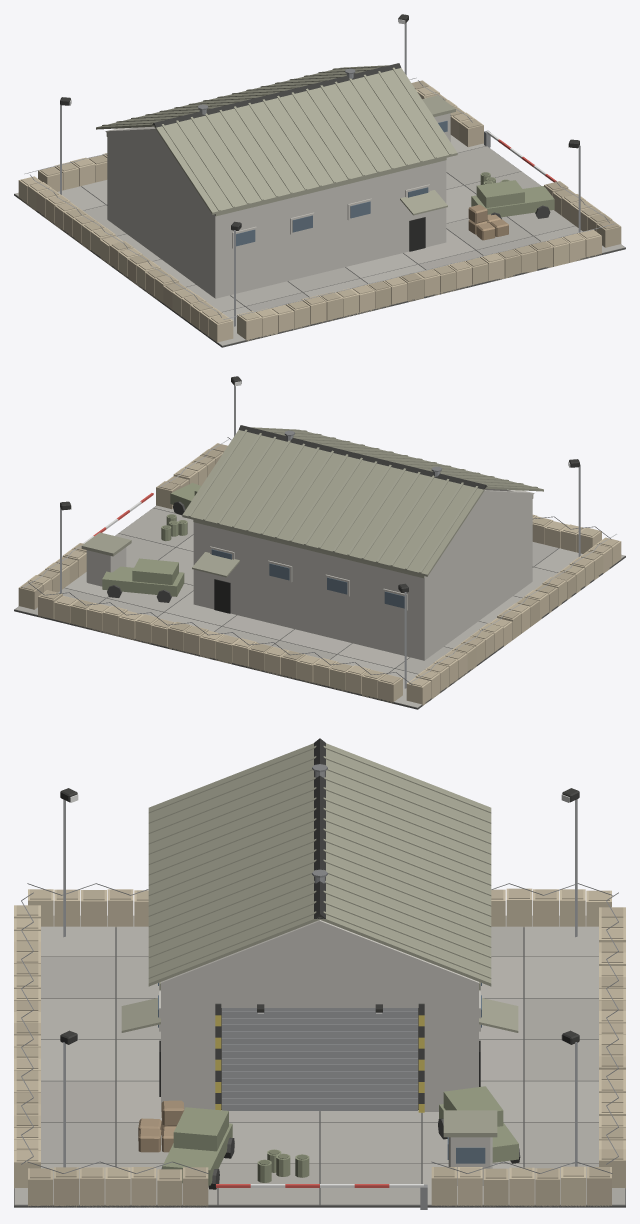
The model's file is b_jeepshop.glb.
3 renders of one model, top to bottom at view 1: azimuth 30°, elevation 25°; view 2: azimuth 150°, elevation 25°; view 3: azimuth 270°, elevation 25°, orthographic. The views are drawn at different scales.
Visible parts, largest first — view 1: hull; view 2: hull; view 3: hull, door.
Part boxes in pixels (left/top/right/bottom): hull: left=14, top=14, right=625, bottom=347; hull: left=14, top=376, right=625, bottom=709; hull: left=14, top=738, right=625, bottom=1209; door: left=222, top=1008, right=417, bottom=1111.
Bounding box in the file's own units: 28.2 × 9.55 × 25.
